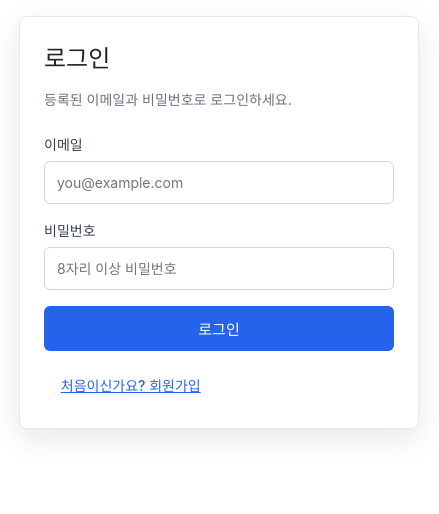
it: AuthForm › 에러가 발생하면 메시지를 표시한다
Type "user@example.com" into the field with placeholder "you@example.com". click: (219, 182)
box: [44,161,394,204]
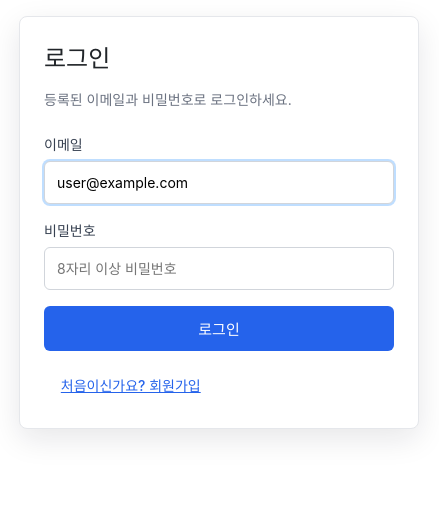
Type "password123" into the password field with placeholder "8자리 이상 비밀번호". click: (219, 268)
box: [44,247,394,290]
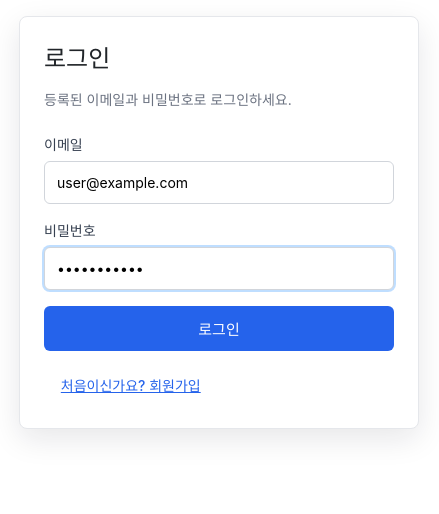
Click the button "로그인". click: (219, 328)
box: [44,306,394,351]
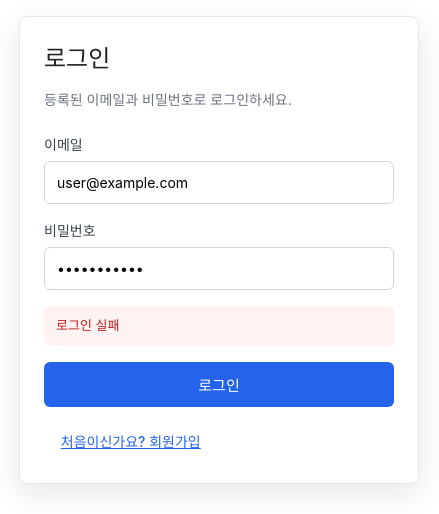
Now the text "로그인 실패" is shown, box [44,306,394,346]
